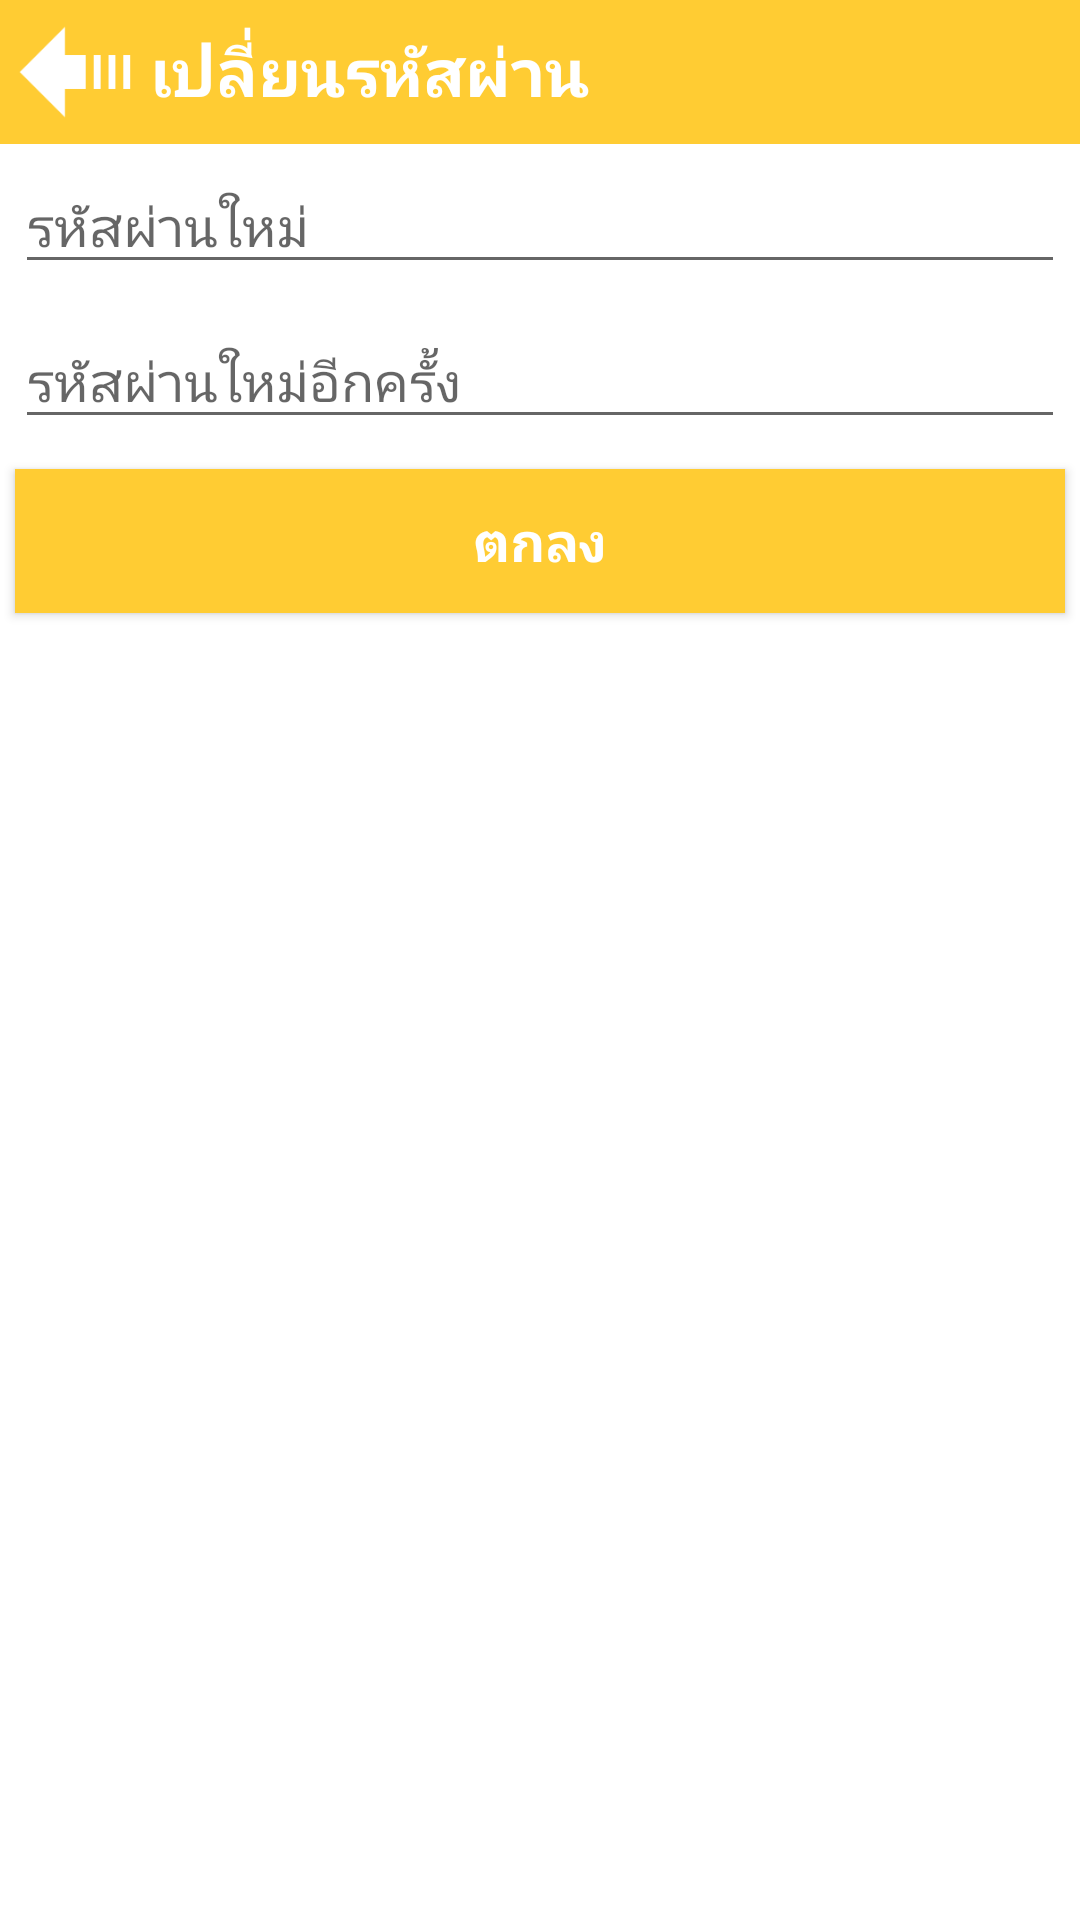

Where to tap for icons on this 1080 × 1920 app screen, as point (x, y):
back: point (75, 72)
